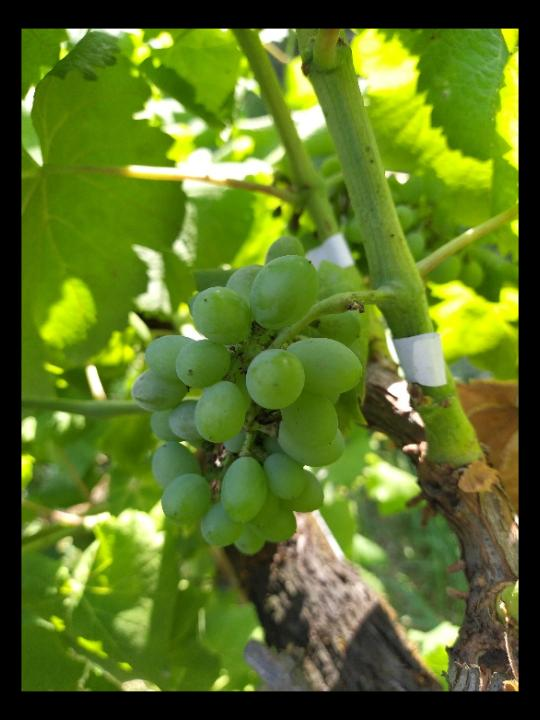grape: (130, 235, 363, 559)
